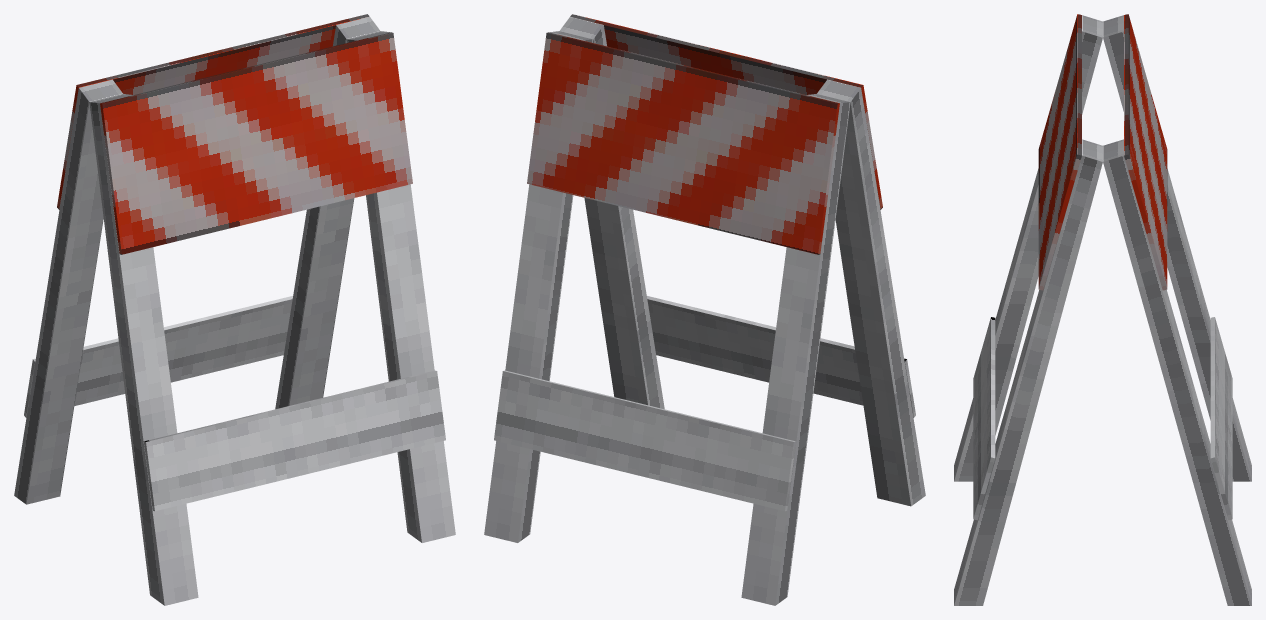
Rendered from barrier_wood.glb.
3 renders of one model, left to right at view 1: azimuth 30°, elevation 25°; view 2: azimuth 150°, elevation 25°; view 3: azimuth 270°, elevation 25°, orthographic.
Visible parts, largest first — view 1: Type_2_barrier_top_bottom_wood; view 2: Type_2_barrier_top_bottom_wood; view 3: Type_2_barrier_top_bottom_wood.
Boxes of the visible parts, <box> form: Type_2_barrier_top_bottom_wood: <box>14,14,455,605</box>; Type_2_barrier_top_bottom_wood: <box>484,14,925,605</box>; Type_2_barrier_top_bottom_wood: <box>954,14,1251,605</box>.
Size of the model in its own units: 0.7959 by 1.19 by 0.7131.
1 material, 1 textured.
